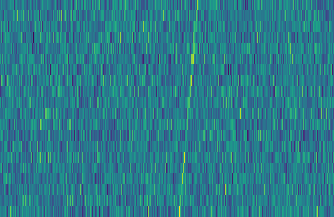signal: (174, 0, 203, 217)
